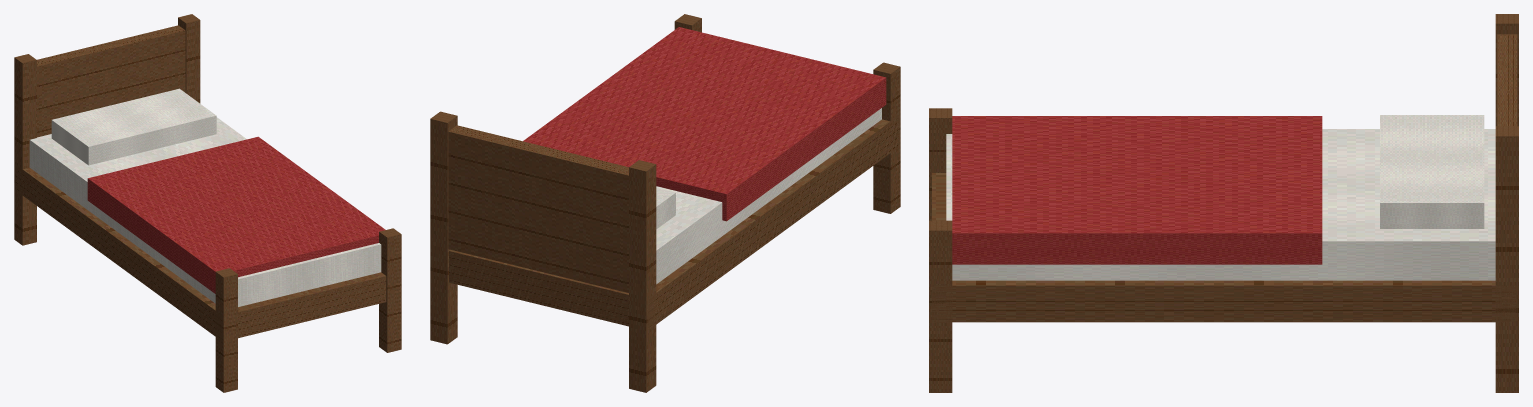
Rendered from leito_de_enfermaria.glb.
The picture shows the model from 3 angles, left to right: view 1: azimuth 30°, elevation 25°; view 2: azimuth 150°, elevation 25°; view 3: azimuth 270°, elevation 25°; orthographic projection. The views are drawn at different scales.
Visible parts, largest first — view 1: leito_de_enfermaria; view 2: leito_de_enfermaria; view 3: leito_de_enfermaria.
Part boxes in pixels (<box>): leito_de_enfermaria: <box>14,14,401,392</box>; leito_de_enfermaria: <box>430,14,900,392</box>; leito_de_enfermaria: <box>929,14,1518,392</box>.
Size of the model in its own units: 1 by 0.98 by 2.04.
1 material, 1 textured.
